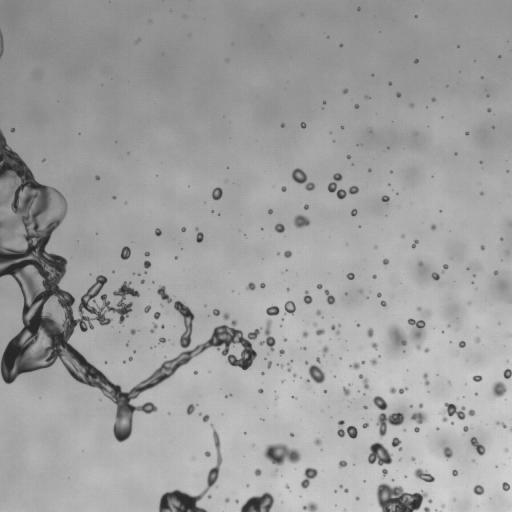droplet: (373, 396, 404, 437), (263, 443, 300, 465), (328, 173, 358, 199), (240, 492, 274, 511), (368, 442, 392, 465), (441, 402, 465, 422), (388, 325, 406, 345), (305, 365, 325, 383), (337, 420, 357, 438), (300, 467, 317, 488), (414, 468, 434, 482), (491, 381, 506, 397), (410, 409, 426, 423), (294, 214, 309, 227), (324, 289, 335, 304), (284, 301, 295, 314), (391, 437, 402, 450), (120, 246, 130, 259), (266, 305, 279, 315), (303, 502, 317, 511), (473, 484, 484, 495), (212, 187, 222, 199), (303, 291, 312, 304), (443, 447, 452, 459), (274, 223, 284, 233), (186, 404, 194, 414), (196, 231, 203, 242), (503, 369, 511, 378), (342, 387, 350, 396), (338, 460, 347, 468), (247, 282, 255, 290), (502, 482, 509, 491), (472, 375, 482, 381), (381, 195, 389, 202), (432, 272, 439, 280), (316, 328, 324, 335), (144, 260, 150, 269), (367, 328, 373, 337), (322, 346, 328, 355), (284, 250, 291, 257), (202, 414, 209, 421), (155, 228, 161, 236), (144, 305, 150, 313), (351, 209, 357, 216), (412, 240, 418, 247), (347, 273, 354, 279), (212, 309, 219, 315), (154, 312, 160, 319), (159, 337, 166, 343), (458, 341, 465, 347), (371, 342, 377, 349), (468, 409, 475, 415), (362, 422, 369, 428), (314, 439, 321, 445), (254, 469, 261, 475), (382, 468, 387, 476), (380, 300, 386, 306), (223, 313, 229, 319), (302, 331, 308, 337), (370, 359, 376, 365), (452, 470, 458, 476), (383, 258, 388, 264), (130, 329, 136, 334), (279, 349, 284, 355), (267, 361, 271, 368), (281, 186, 286, 191), (260, 283, 265, 288), (316, 310, 321, 315), (414, 427, 419, 432), (463, 426, 468, 431), (205, 451, 210, 456), (301, 122, 305, 128), (424, 507, 430, 511), (396, 92, 400, 97), (304, 204, 308, 209), (268, 209, 272, 214), (431, 224, 435, 229), (418, 262, 423, 266), (317, 284, 322, 288), (377, 292, 381, 297), (258, 389, 263, 393), (414, 59, 418, 63), (343, 89, 347, 93), (354, 104, 358, 108), (10, 128, 14, 132), (181, 227, 185, 231), (480, 245, 484, 249), (145, 252, 149, 256), (475, 338, 479, 342), (424, 348, 428, 352), (344, 488, 348, 492), (355, 496, 359, 500), (225, 498, 229, 502), (281, 123, 284, 127), (95, 176, 99, 179), (494, 270, 497, 274), (302, 346, 306, 349), (316, 358, 319, 362), (287, 368, 291, 371), (418, 404, 422, 407), (411, 457, 415, 460), (285, 484, 288, 488), (428, 500, 432, 503), (432, 98, 435, 101), (487, 108, 490, 111), (347, 155, 350, 158), (373, 275, 376, 278), (141, 280, 144, 283), (161, 325, 164, 328), (455, 327, 458, 330), (129, 357, 132, 360), (194, 371, 197, 374), (292, 396, 295, 399), (364, 406, 367, 409), (290, 433, 293, 436), (365, 96, 369, 98), (368, 169, 371, 171), (113, 196, 115, 199), (359, 290, 362, 292), (313, 323, 316, 325), (284, 338, 286, 341), (293, 374, 296, 376), (323, 390, 326, 392), (451, 422, 454, 424), (504, 449, 507, 451), (339, 485, 342, 487), (235, 500, 238, 502), (357, 8, 359, 10), (137, 39, 139, 41), (340, 44, 342, 46), (389, 82, 391, 84), (410, 104, 412, 106), (466, 132, 468, 134), (42, 159, 44, 161), (195, 228, 197, 230), (500, 238, 502, 240), (448, 325, 450, 327), (305, 361, 307, 363), (262, 372, 264, 374), (475, 392, 477, 394)
ligament: (0, 130, 259, 442), (159, 425, 222, 511), (376, 483, 427, 511), (408, 318, 425, 349), (259, 319, 275, 351), (292, 168, 315, 190), (470, 437, 485, 455), (157, 286, 171, 302), (358, 374, 369, 389), (417, 307, 430, 317), (389, 387, 407, 394), (350, 361, 364, 369), (422, 373, 429, 385), (0, 31, 3, 57), (331, 325, 339, 334), (496, 422, 506, 428), (151, 323, 157, 332), (441, 264, 447, 272), (510, 427, 511, 431), (435, 510, 439, 511)
